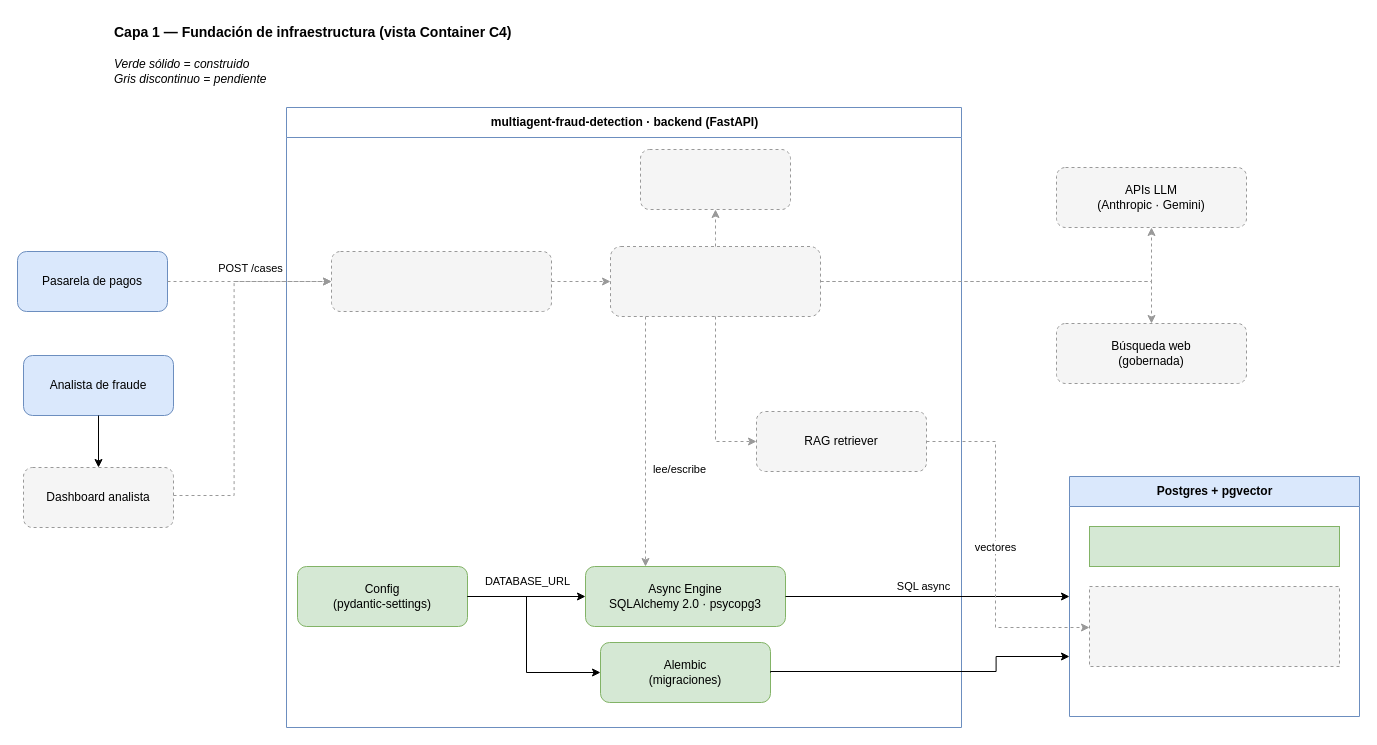
This 1377x745 diagram has some shape labels left out. Each missing label, with the centre of its shape:
"Capa API POST /cases · GET /cases · /resolution" goes at (x=441, y=281).
"cases · audit · hitl_queue checkpoints · policy vectors" goes at (x=1214, y=626).
"Cola HITL" goes at (x=715, y=179).
"transactions" goes at (x=1214, y=546).
"Worker del grafo LangGraph + Checkpointer" goes at (x=715, y=281).
